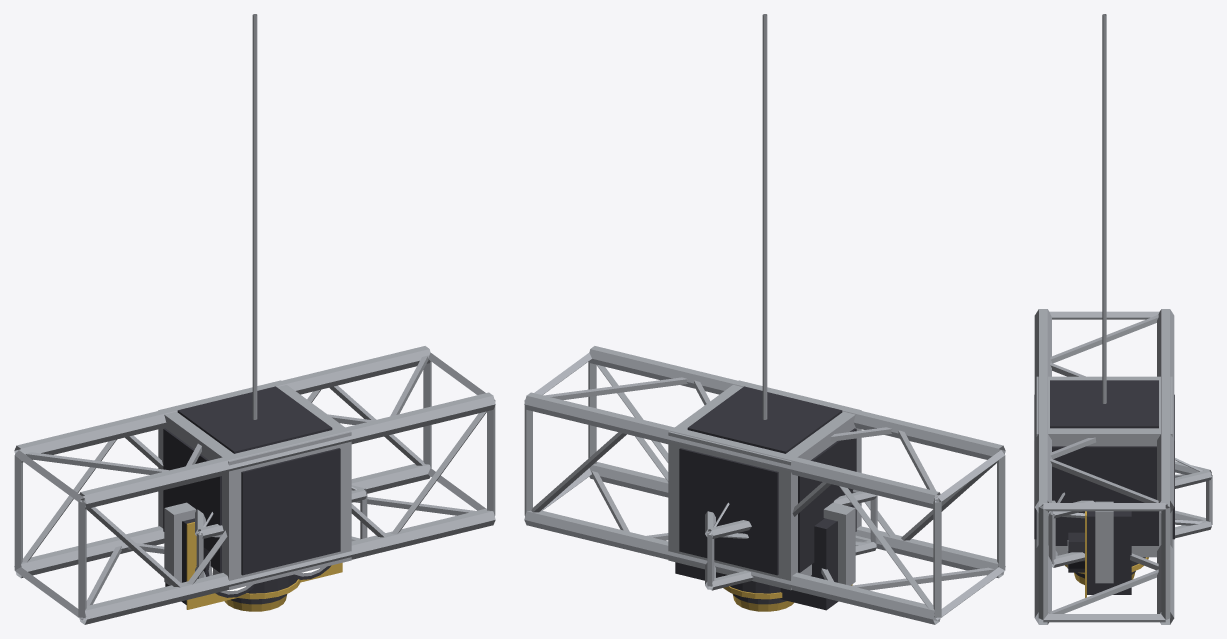
File: rig.glb
3 views of the same model, side by side, from view 1: azimuth 30°, elevation 25°; view 2: azimuth 150°, elevation 25°; view 3: azimuth 270°, elevation 25° (orthographic). The views are drawn at different scales.
Visible parts, largest first — view 1: truss, truss_corner, blinder, pod_cable, pod, par, head_tilt; view 2: truss, truss_corner, blinder, pod, pod_cable, par, head_tilt; view 3: truss, truss_corner, blinder, pod, pod_cable.
Part boxes in pixels (left/top/right/bottom): truss: left=14, top=346, right=495, bottom=624; truss_corner: left=158, top=380, right=351, bottom=590; blinder: left=164, top=502, right=342, bottom=609; pod_cable: left=252, top=14, right=257, bottom=419; pod: left=195, top=485, right=367, bottom=578; par: left=235, top=574, right=300, bottom=599; head_tilt: left=224, top=594, right=287, bottom=611; truss: left=524, top=346, right=1005, bottom=624; truss_corner: left=668, top=380, right=861, bottom=590; blinder: left=675, top=502, right=855, bottom=610; pod: left=705, top=489, right=877, bottom=590; pod_cable: left=762, top=14, right=767, bottom=419; par: left=721, top=573, right=782, bottom=599; head_tilt: left=732, top=594, right=793, bottom=611; truss: left=1034, top=309, right=1174, bottom=624; truss_corner: left=1034, top=376, right=1174, bottom=557; blinder: left=1067, top=501, right=1131, bottom=597; pod: left=1048, top=458, right=1212, bottom=567; pod_cable: left=1102, top=14, right=1106, bottom=403.
Bounding box in the file's own units: 1.02 × 1.37 × 0.3935.
